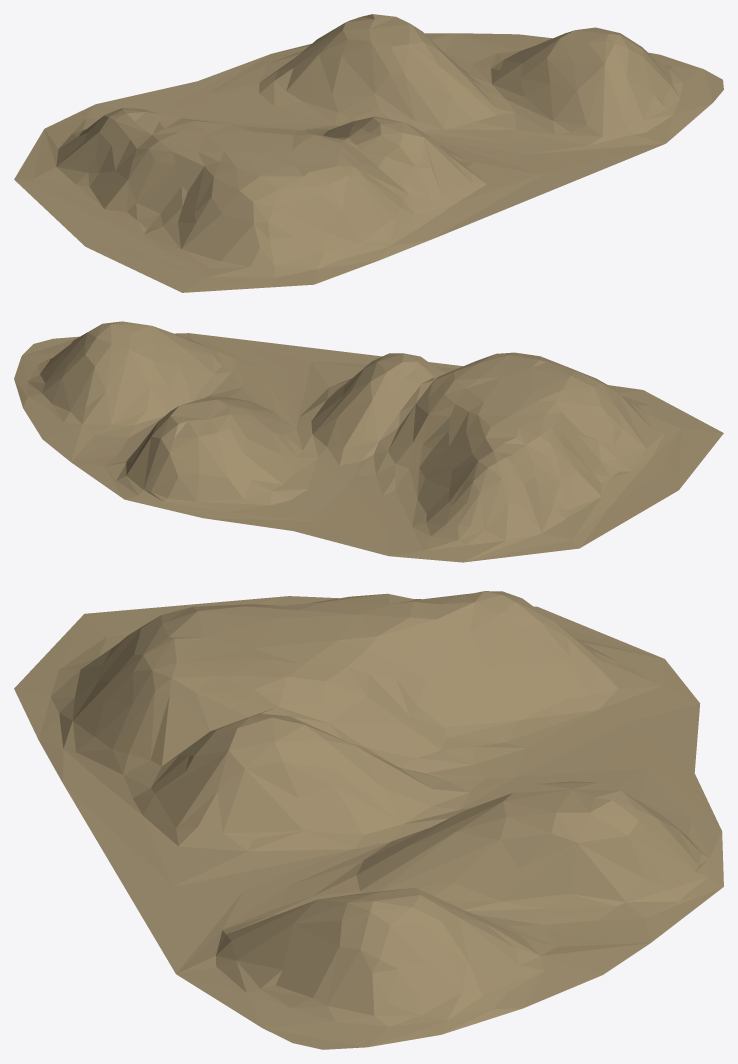
Rendered from SM_Env_Beach_04.glb.
3 views of the same model, one above another, from view 1: azimuth 30°, elevation 25°; view 2: azimuth 150°, elevation 25°; view 3: azimuth 270°, elevation 25° (orthographic). The views are drawn at different scales.
Visible parts, largest first — view 1: SM_Env_Beach_04; view 2: SM_Env_Beach_04; view 3: SM_Env_Beach_04.
Boxes of the visible parts, box(x1,y1,x2,y2) form: SM_Env_Beach_04: box(14, 14, 723, 292); SM_Env_Beach_04: box(14, 321, 723, 562); SM_Env_Beach_04: box(14, 591, 723, 1049).
Size of the model in its own units: 0.2855 by 0.0251 by 0.1888.
